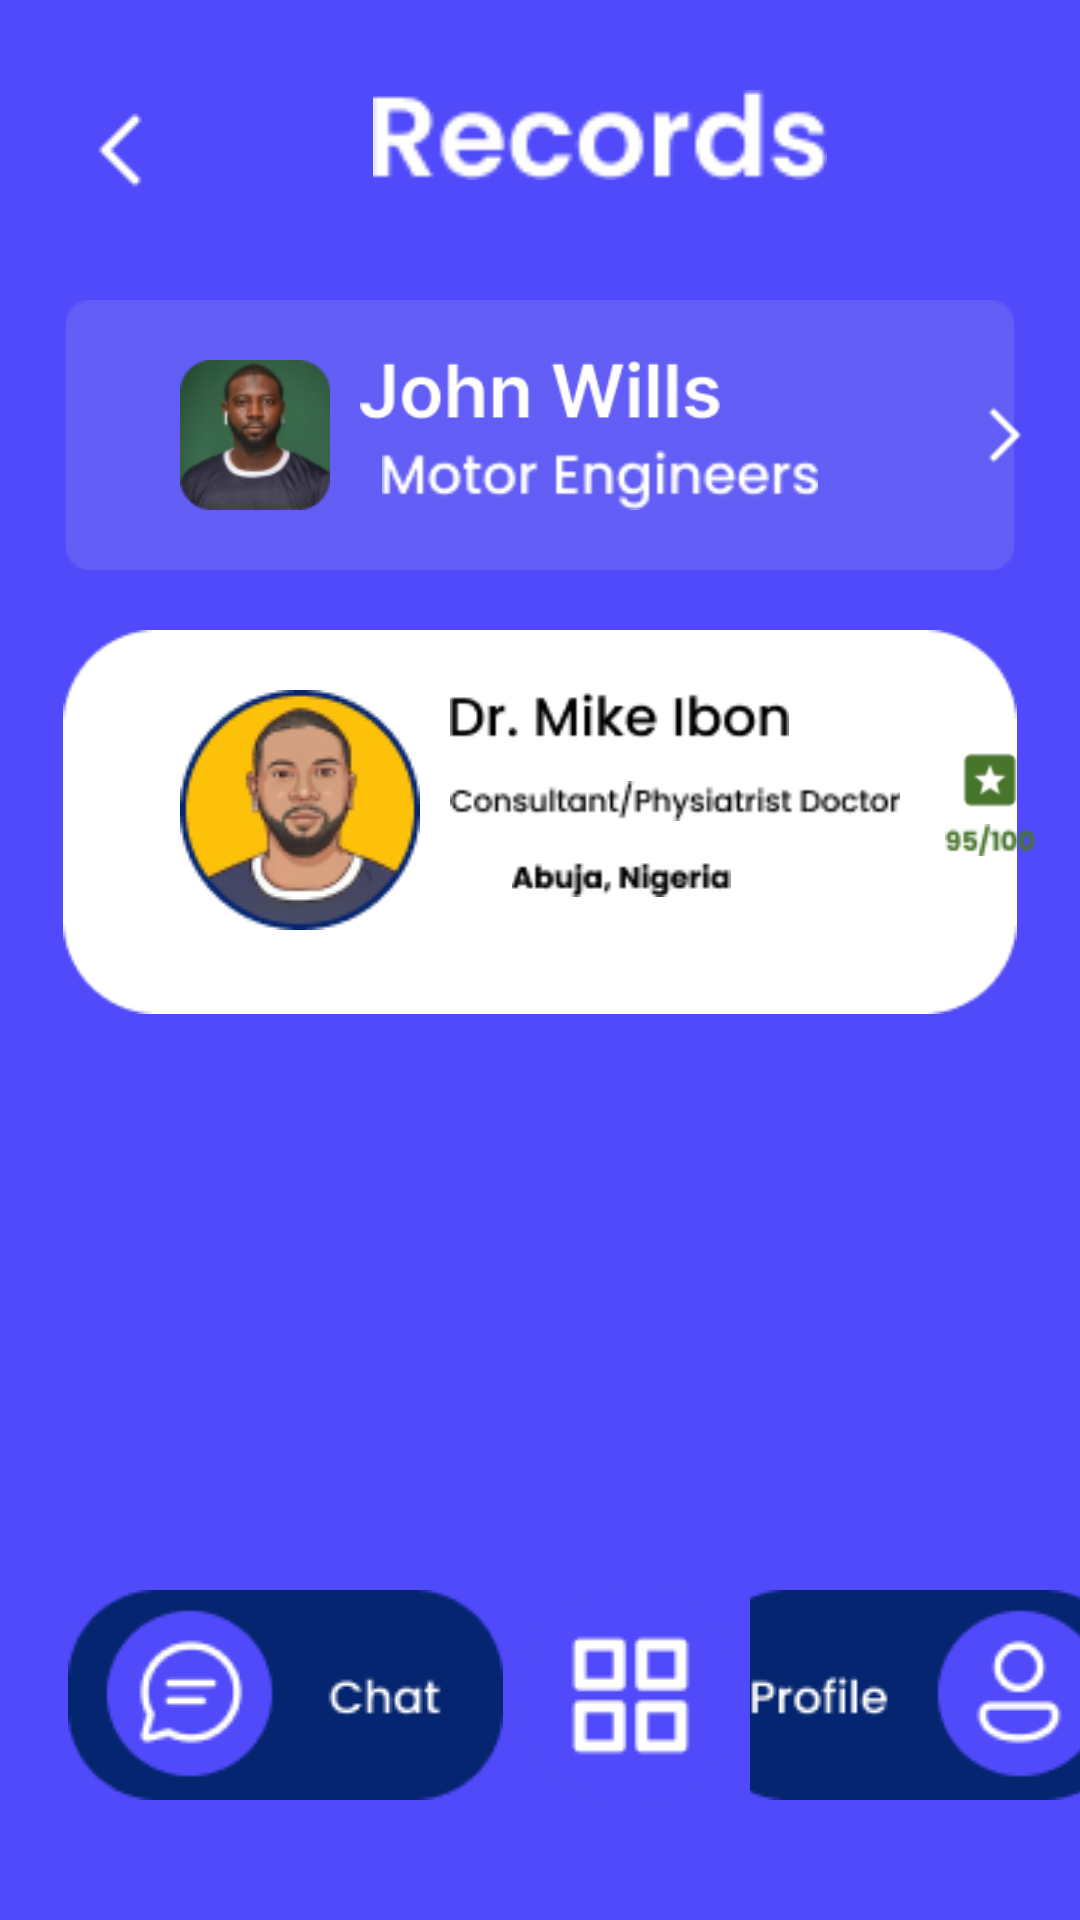

Icon bounding boxes for this 1080 × 1920 phone screenshot, format [left=x1, top=y1, right=x2, bottom=y2]:
chevronleft: [left=99, top=114, right=141, bottom=186]
chevronright: [left=989, top=408, right=1020, bottom=462]
